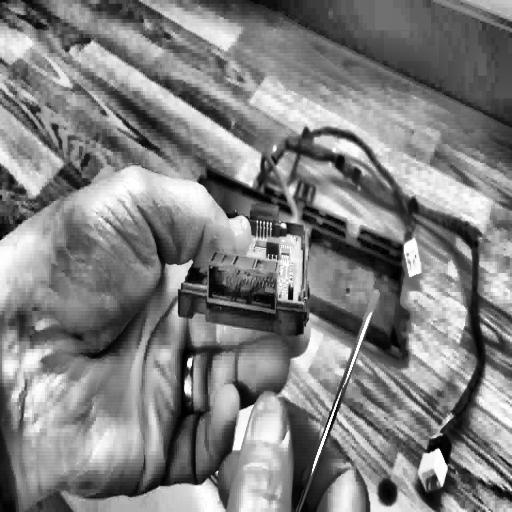high_volt_cable: (247, 110, 489, 494)
